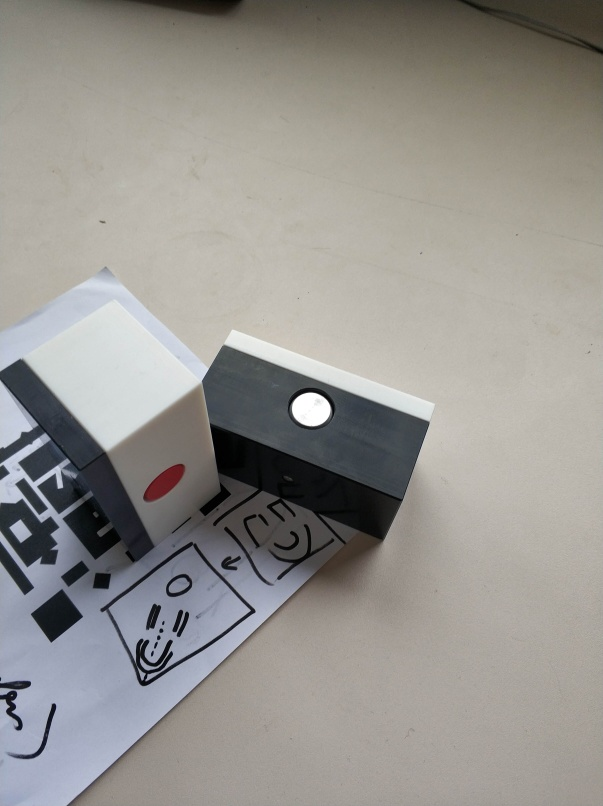black+white+red: (1, 294, 223, 562)
white+black+silver: (199, 327, 437, 544)
